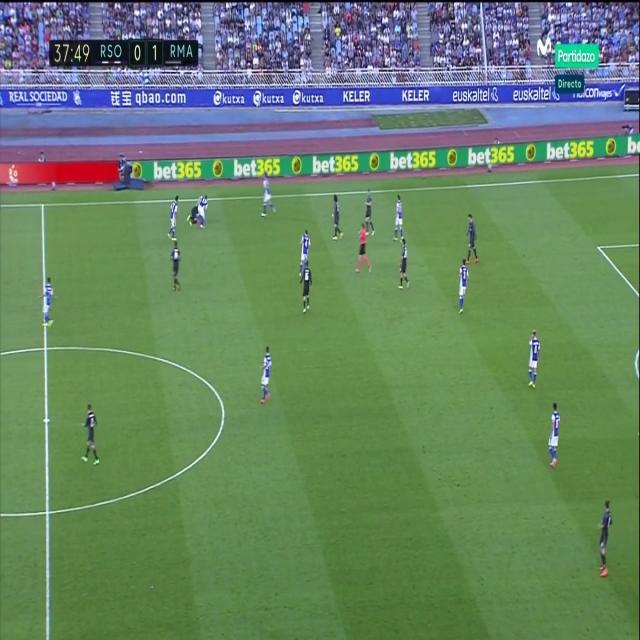Player: (595, 496, 616, 581), (78, 401, 102, 469), (544, 401, 563, 473), (525, 326, 542, 392), (258, 343, 274, 411), (454, 255, 471, 318), (463, 210, 482, 266), (39, 271, 56, 333), (299, 258, 316, 316), (258, 172, 276, 224), (166, 192, 182, 248), (390, 192, 406, 246), (329, 193, 345, 247), (397, 236, 410, 296), (169, 239, 183, 294), (362, 188, 377, 238), (299, 227, 311, 279), (193, 195, 210, 230)
Referee: (351, 221, 373, 278)
